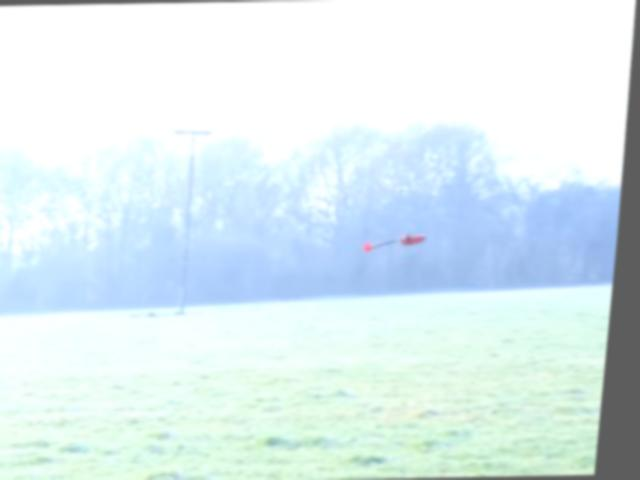uav: (365, 226, 433, 253)
